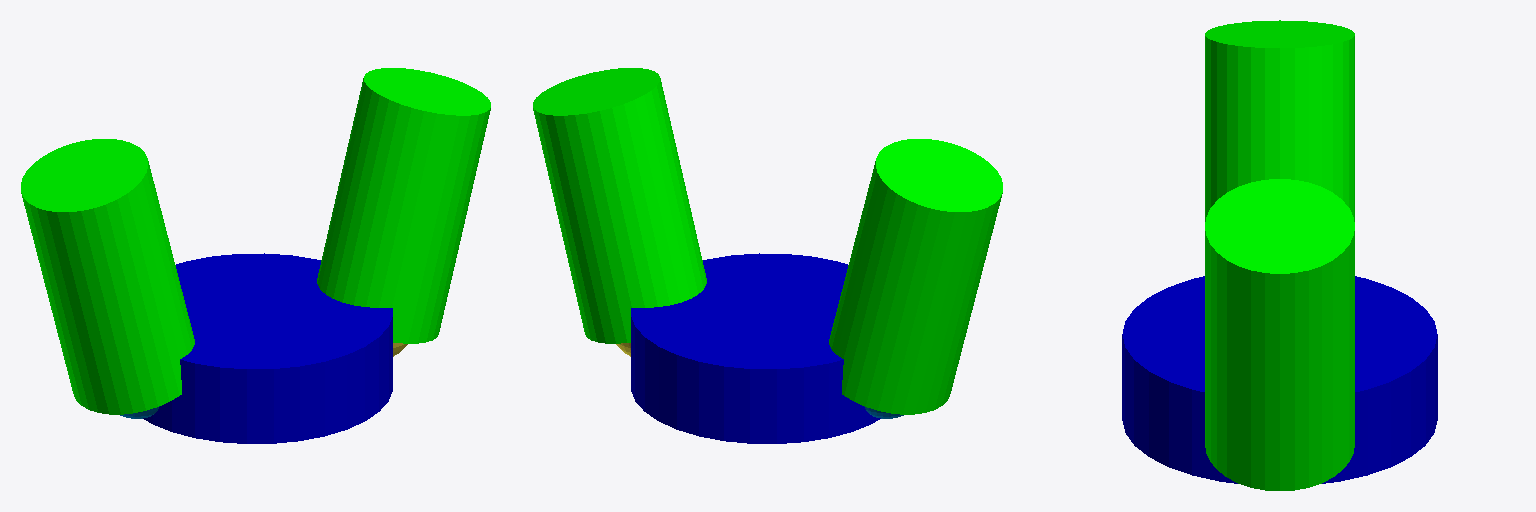
robot.urdf — gripper_2f_1j:
<?xml version='1.0' encoding='UTF-8'?>
<robot name="gripper_2f_1j">
  <link name="palm">
    <inertial>
      <origin xyz="0.0 0.0 0.0" rpy="0.0 -0.0 0.0"/>
      <mass value="1.0"/>
      <inertia ixx="1.0" ixy="0.0" ixz="0.0" iyy="1.0" iyz="0.0" izz="1.0"/>
    </inertial>
    <visual>
      <geometry>
        <cylinder radius="0.05" length="0.03"/>
      </geometry>
      <material name="blue"/>
      <origin xyz="0.0 0.0 0.0" rpy="0.0 -0.0 0.0"/>
    </visual>
    <collision>
      <geometry>
        <cylinder radius="0.05" length="0.03"/>
      </geometry>
      <origin xyz="0.0 0.0 0.0" rpy="0.0 0.0 0.0"/>
    </collision>
  </link>
  <link name="f11">
    <inertial>
      <origin xyz="0.0 0.0 0.0" rpy="0.0 -0.0 0.0"/>
      <mass value="1.0"/>
      <inertia ixx="1.0" ixy="0.0" ixz="0.0" iyy="1.0" iyz="0.0" izz="1.0"/>
    </inertial>
    <visual>
      <geometry>
        <cylinder radius="0.02384690471153116" length="0.08912019615673611"/>
      </geometry>
      <material name="green"/>
      <origin xyz="0.0 0.0 0.044560098078368054" rpy="0.0 -0.0 0.0"/>
    </visual>
    <collision>
      <geometry>
        <cylinder radius="0.02384690471153116" length="0.08912019615673611"/>
      </geometry>
      <origin xyz="0.0 0.0 0.05" rpy="0.0 0.0 0.0"/>
    </collision>
  </link>
  <link name="f21">
    <inertial>
      <origin xyz="0.0 0.0 0.0" rpy="0.0 -0.0 0.0"/>
      <mass value="1.0"/>
      <inertia ixx="1.0" ixy="0.0" ixz="0.0" iyy="1.0" iyz="0.0" izz="1.0"/>
    </inertial>
    <visual>
      <geometry>
        <cylinder radius="0.02384690471153116" length="0.08912019615673611"/>
      </geometry>
      <material name="green"/>
      <origin xyz="0.0 0.0 0.044560098078368054" rpy="0.0 -0.0 0.0"/>
    </visual>
    <collision>
      <geometry>
        <cylinder radius="0.02384690471153116" length="0.08912019615673611"/>
      </geometry>
      <origin xyz="0.0 0.0 0.05" rpy="0.0 0.0 0.0"/>
    </collision>
  </link>
  <link name="f11_base">
    <inertial>
      <origin xyz="0.0 0.0 0.0" rpy="0.0 -0.0 0.0"/>
      <mass value="1.0"/>
      <inertia ixx="1.0" ixy="0.0" ixz="0.0" iyy="1.0" iyz="0.0" izz="1.0"/>
    </inertial>
    <visual>
      <geometry>
        <sphere radius="0.015"/>
      </geometry>
      <origin xyz="0.0 0.0 0.0" rpy="0.0 -0.0 0.0"/>
    </visual>
  </link>
  <link name="f21_base">
    <inertial>
      <origin xyz="0.0 0.0 0.0" rpy="0.0 -0.0 0.0"/>
      <mass value="1.0"/>
      <inertia ixx="1.0" ixy="0.0" ixz="0.0" iyy="1.0" iyz="0.0" izz="1.0"/>
    </inertial>
    <visual>
      <geometry>
        <sphere radius="0.015"/>
      </geometry>
      <origin xyz="0.0 0.0 0.0" rpy="0.0 -0.0 0.0"/>
    </visual>
  </link>
  <joint name="f11_joint" type="revolute">
    <dynamics damping="100.0" friction="1.0"/>
    <limit effort="30.0" velocity="2.0" lower="-0.6" upper="0.25"/>
    <parent link="f11_base"/>
    <child link="f11"/>
    <axis xyz="0. 1. 0."/>
    <origin xyz="0.0 0.0 0.0" rpy="0.0 0.25 0.0"/>
  </joint>
  <joint name="f21_joint" type="revolute">
    <dynamics damping="100.0" friction="1.0"/>
    <limit effort="30.0" velocity="2.0" lower="-0.6" upper="0.25"/>
    <parent link="f21_base"/>
    <child link="f21"/>
    <axis xyz=" 0. -1.  0."/>
    <origin xyz="0.0 0.0 0.0" rpy="0.0 -0.25 0.0"/>
  </joint>
  <joint name="f11_base_joint" type="fixed">
    <parent link="palm"/>
    <child link="f11_base"/>
    <axis xyz="1. 0. 0."/>
    <origin xyz="0.05 0.0 0.0" rpy="0.0 0.0 0.0"/>
  </joint>
  <joint name="f21_base_joint" type="fixed">
    <parent link="palm"/>
    <child link="f21_base"/>
    <axis xyz="1. 0. 0."/>
    <origin xyz="-0.05 -0.0 0.0" rpy="0.0 0.0 0.0"/>
  </joint>
  <material name="blue">
    <color rgba="0.  0.  0.8 1. "/>
  </material>
  <material name="green">
    <color rgba="0. 1. 0. 1."/>
  </material>
</robot>

--- Render facts (derived) ---
The picture shows the robot from 3 angles, left to right: view 1: azimuth 30°, elevation 25°; view 2: azimuth 150°, elevation 25°; view 3: azimuth 270°, elevation 25°; orthographic projection.
Model gripper_2f_1j with 5 links and 4 joints (2 revolute, 2 fixed), rooted at palm, posed every joint at zero.
Links seen in each view (by area): view 1: palm, f21, f11; view 2: palm, f21, f11; view 3: f11, palm, f21.
Boxes of the visible links, left/top/right/bottom form: palm: left=143, top=253, right=392, bottom=443; f21: left=21, top=139, right=194, bottom=414; f11: left=317, top=68, right=490, bottom=343; palm: left=631, top=253, right=880, bottom=443; f21: left=829, top=139, right=1002, bottom=414; f11: left=533, top=68, right=706, bottom=343; f11: left=1205, top=179, right=1354, bottom=490; palm: left=1122, top=276, right=1437, bottom=483; f21: left=1205, top=20, right=1354, bottom=221.
Bounding box of the posed robot: 0.1903 × 0.1 × 0.1072 m (x, y, z).
Geometry: primitives only (box / cylinder / sphere), no mesh files.